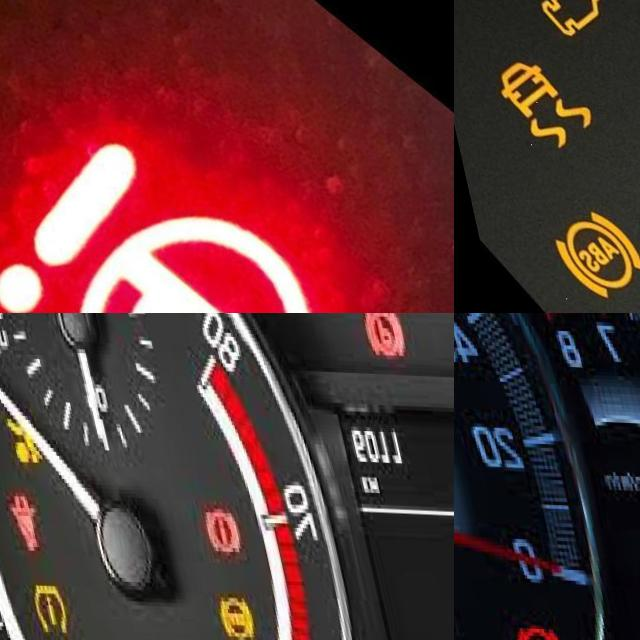Electronic Power Steering: (0, 134, 323, 313), (14, 579, 56, 634)
Seat Belt: (0, 489, 31, 551)
